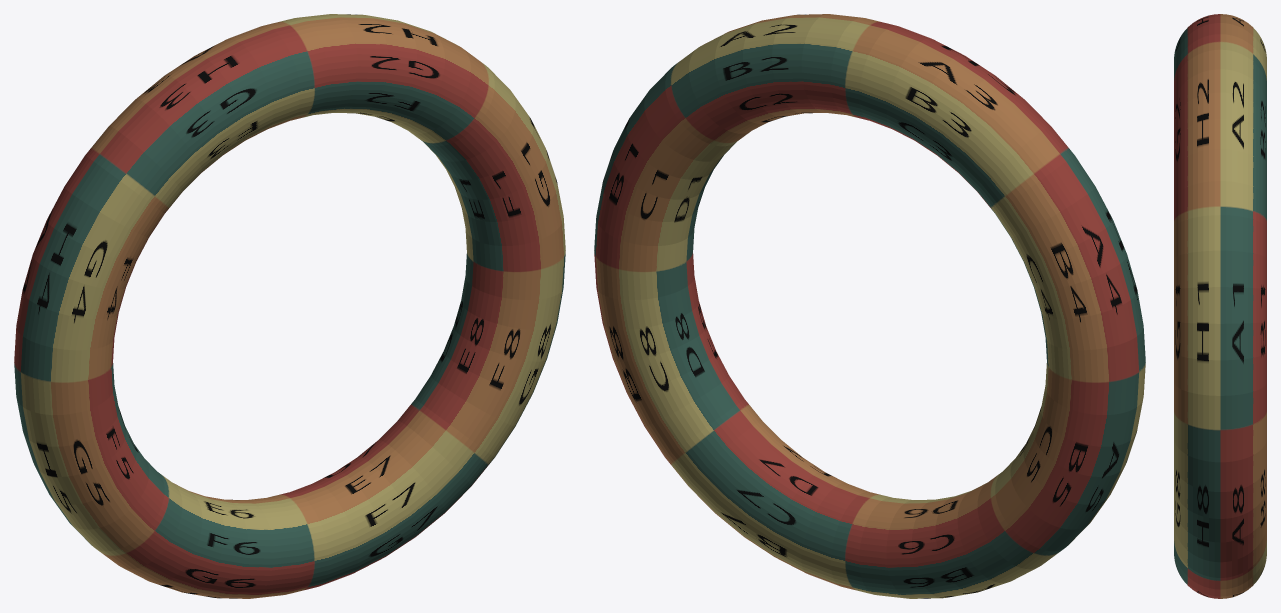
Rendered from texture_torus_R22_r10.glb.
3 renders of one model, left to right at view 1: azimuth 30°, elevation 25°; view 2: azimuth 150°, elevation 25°; view 3: azimuth 270°, elevation 25°, orthographic. The views are drawn at different scales.
Parts seen in each view (by area): view 1: world; view 2: world; view 3: world.
Part boxes in pixels (bbox=[...]): world: bbox=[14, 14, 565, 598]; world: bbox=[594, 14, 1145, 598]; world: bbox=[1174, 14, 1266, 598].
Size of the model in its own units: 29.33 by 29.28 by 4.66.
Materials: 1 (1 with a texture image).
